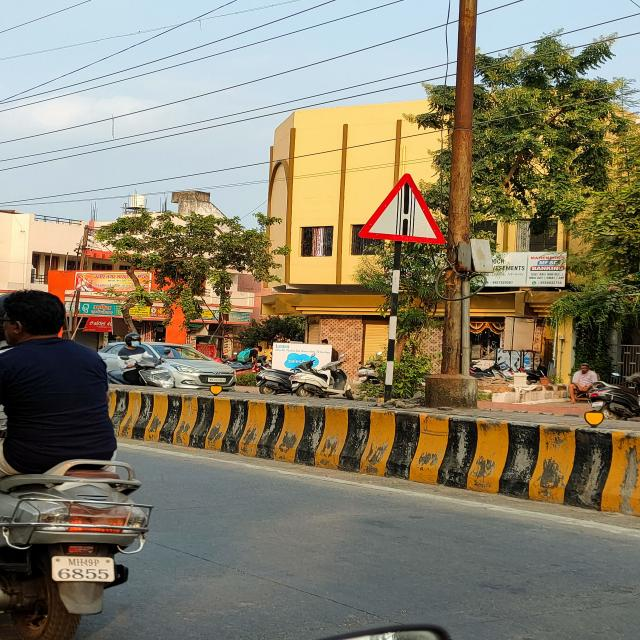GAP_IN_MEDIAN: (358, 172, 448, 245)
